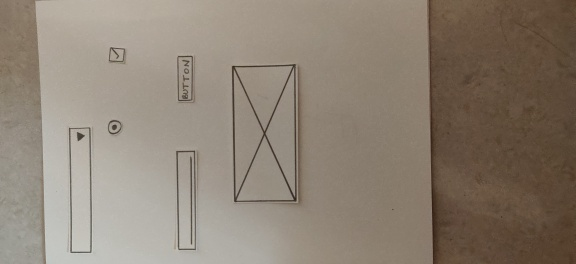button: (175, 53, 195, 105)
checkbox: (107, 44, 127, 66)
dropdown: (66, 124, 95, 255)
img: (229, 62, 301, 205)
radio: (105, 119, 123, 137)
text: (174, 148, 200, 252)
